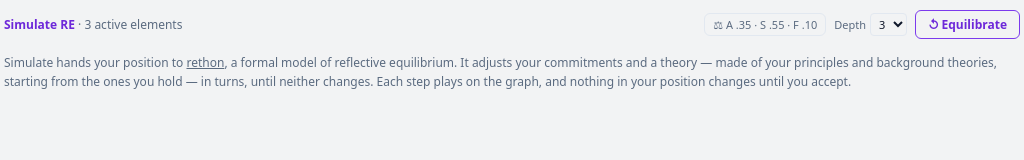
Test: stopping a simulation › offers Stop only while a request is running
The image size is (1024, 160).
Check: the button "stop" is not shown
Click the button "↺ Equilibrate" at (968, 24), box [915,10,1020,39]
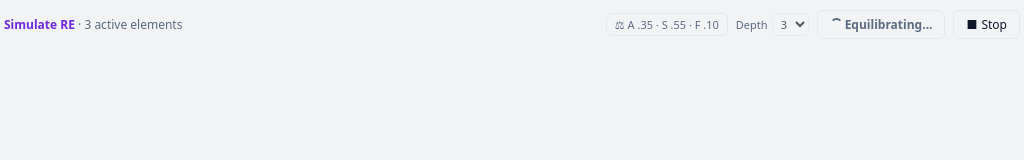
Check: the button "■ Stop" is shown, box [954,10,1020,39]
